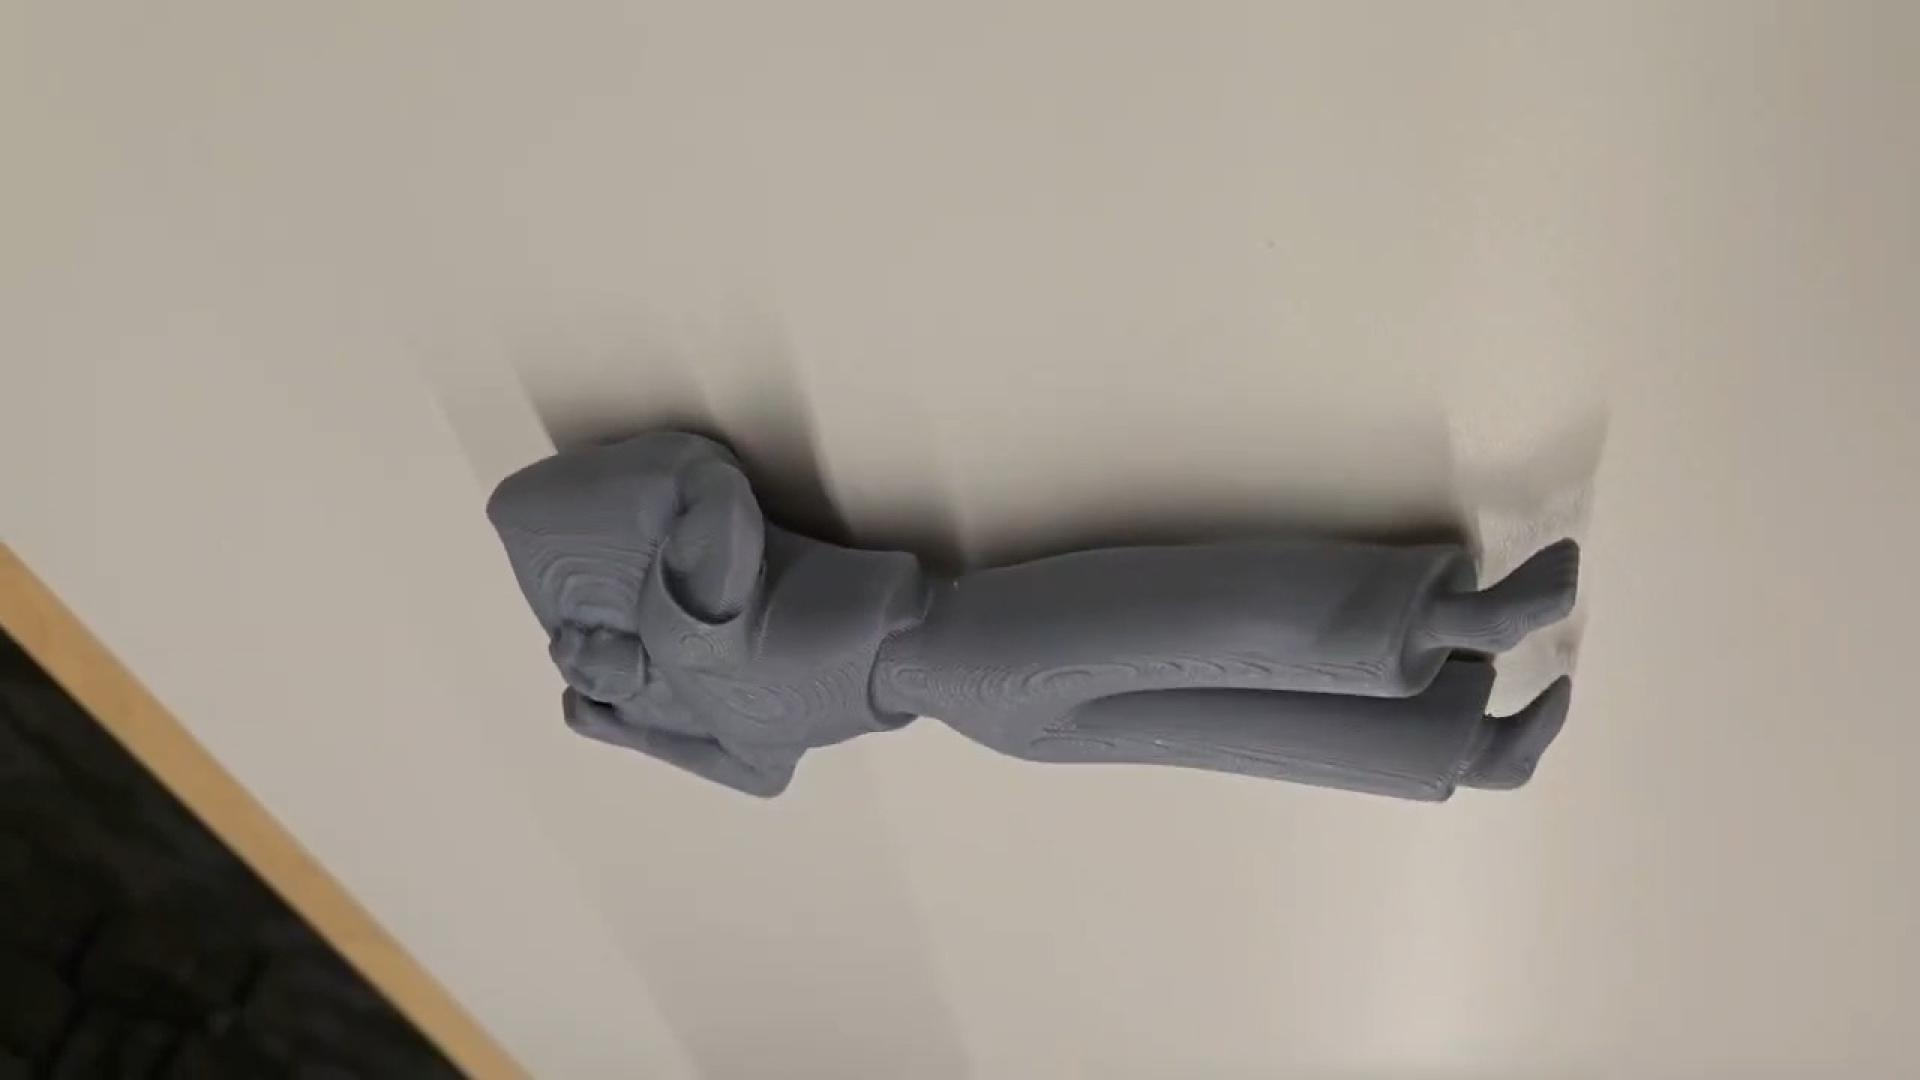Bad-style: (496, 423, 1589, 803)
